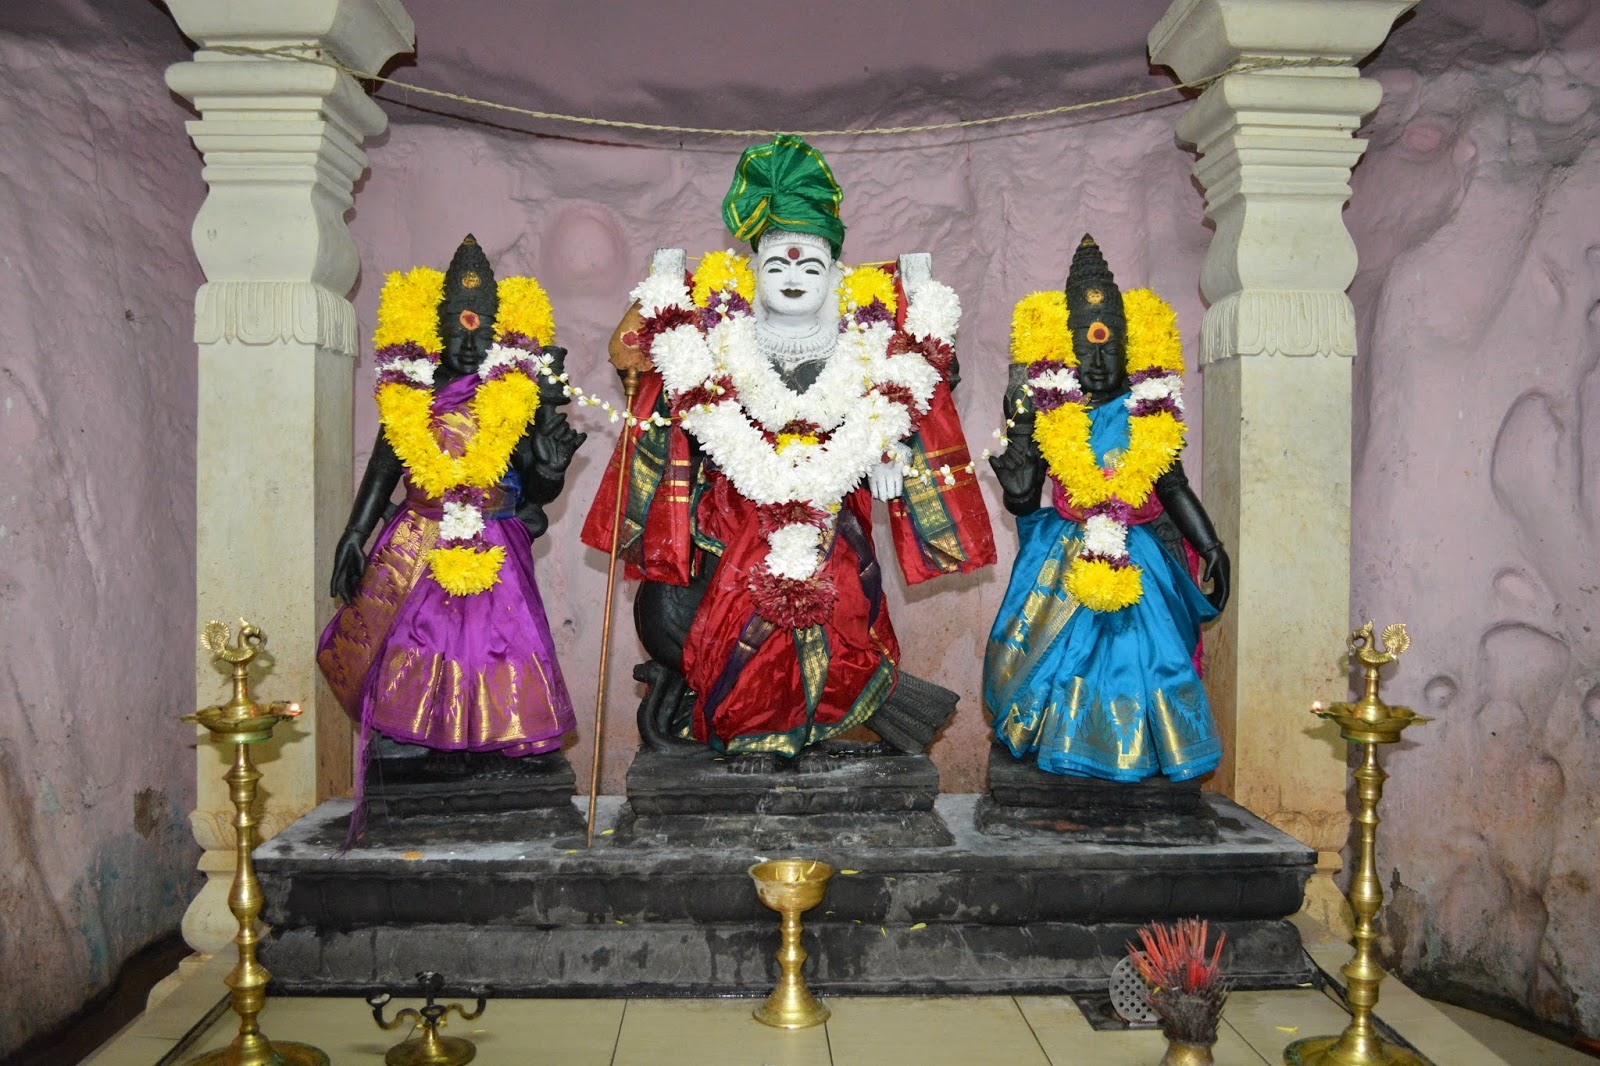Hindu Temple: (365, 142, 1174, 832)
